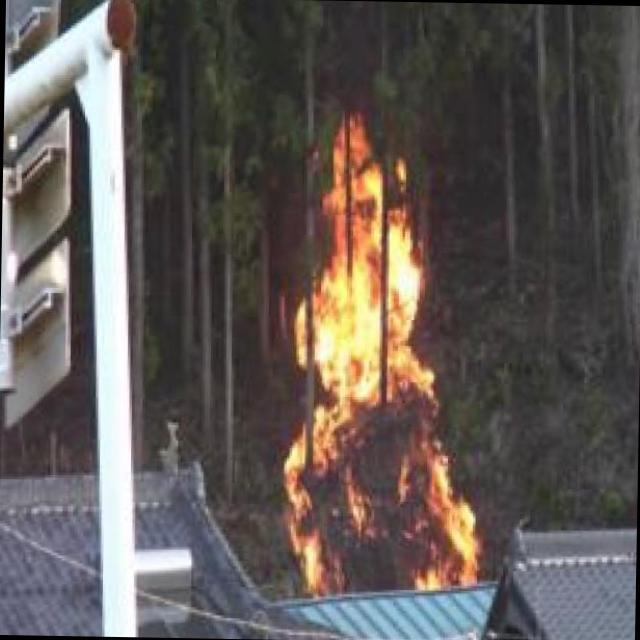Fire: (288, 127, 476, 598)
